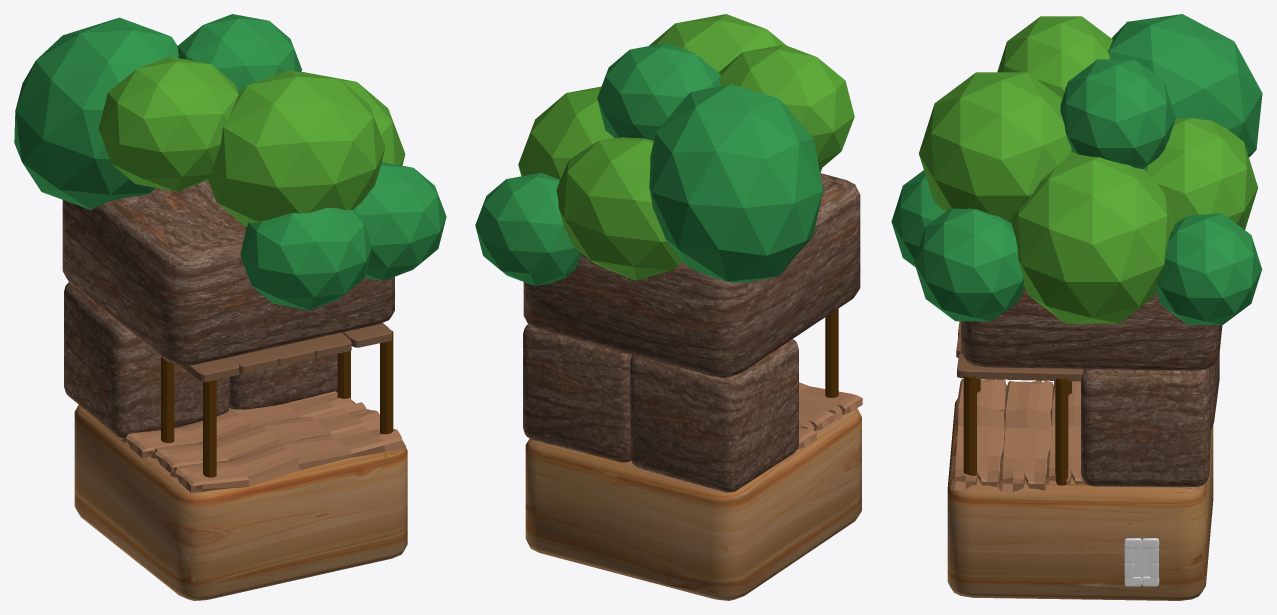
Rendered from TopCrown.fbx.
3 views of the same model, side by side, from view 1: azimuth 30°, elevation 25°; view 2: azimuth 150°, elevation 25°; view 3: azimuth 270°, elevation 25° (orthographic).
Visible parts, largest first — view 1: Cube.097, Cube.111, Icosphere.005, Icosphere.010, Icosphere.011, Cube.110, Icosphere.012, Icosphere.006, LP Plank 1m A.007, Icosphere.009, LP Plank 1m A.008, Cube.109 (+11 smaller); view 2: Cube.097, Cube.111, Icosphere.010, Cube.110, Icosphere.008, Cube.109, Icosphere, Icosphere.011, Icosphere.009, Icosphere.007, Icosphere.005, LP Plank 1m A.007 (+2 smaller); view 3: Cube.097, Icosphere.007, Icosphere.005, Cube.109, Cube.111, Icosphere.010, Icosphere.006, Icosphere.009, Icosphere, Icosphere.008, Icosphere.011, LP Plank 1m A.008 (+8 smaller).
Part boxes in pixels (x1,y1,x2,y2): Cube.097: (74,392,407,600); Cube.111: (62,180,394,365); Icosphere.005: (207,70,385,226); Icosphere.010: (14,17,178,210); Icosphere.011: (98,56,238,191); Cube.110: (64,282,229,438); Icosphere.012: (240,208,371,310); Icosphere.006: (354,162,446,280); LP Plank 1m A.007: (170,421,405,492); Icosphere.009: (177,14,301,92); LP Plank 1m A.008: (150,402,379,473); Cube.109: (229,354,337,409); Cube.097: (525,408,861,600); Cube.111: (523,173,860,377); Icosphere.010: (649,84,823,282); Cube.110: (630,339,798,492); Icosphere.008: (556,137,682,280); Cube.109: (523,324,632,462); Icosphere: (475,172,581,285); Icosphere.011: (719,44,854,169); Icosphere.009: (597,43,721,140); Icosphere.007: (518,86,614,179); Icosphere.005: (649,14,786,72); LP Plank 1m A.007: (799,382,862,420); Cube.097: (947,398,1213,600); Icosphere.007: (1012,152,1174,323); Icosphere.005: (919,72,1072,223); Cube.109: (1081,367,1210,486); Cube.111: (961,287,1222,370); Icosphere.010: (1108,14,1262,157); Icosphere.006: (914,208,1023,321); Icosphere.009: (1060,59,1175,168); Icosphere: (1157,213,1262,324); Icosphere.008: (1144,118,1257,229); Icosphere.011: (997,16,1112,98); LP Plank 1m A.008: (998,380,1053,492).
Bounding box in the file's own units: 10.12 × 15.03 × 10.22.
